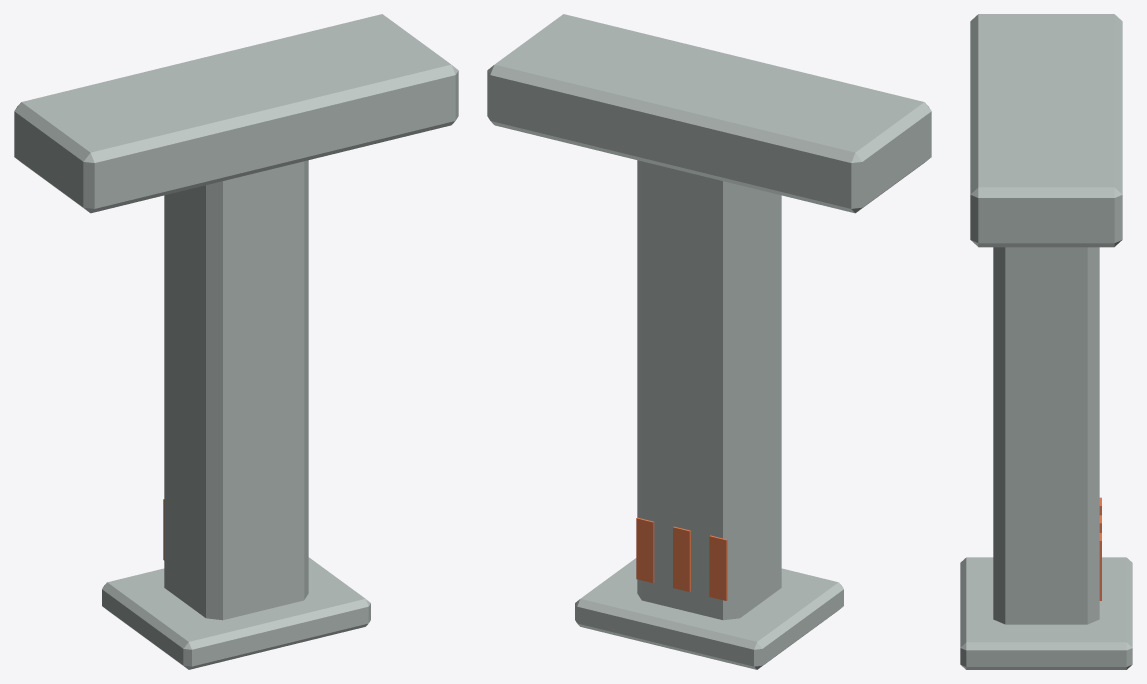
Rendered from bridge_pier.glb.
3 views of the same model, side by side, from view 1: azimuth 30°, elevation 25°; view 2: azimuth 150°, elevation 25°; view 3: azimuth 270°, elevation 25° (orthographic).
Parts seen in each view (by area): view 1: bridge_pier.Root_Concrete; view 2: bridge_pier.Root_Concrete, bridge_pier.Root_Orange; view 3: bridge_pier.Root_Concrete, bridge_pier.Root_Orange.
Boxes of the visible parts, box(x1,y1,x2,y2) form: bridge_pier.Root_Concrete: box(14, 14, 458, 669); bridge_pier.Root_Concrete: box(487, 14, 931, 669); bridge_pier.Root_Orange: box(636, 517, 727, 600); bridge_pier.Root_Concrete: box(960, 14, 1132, 669); bridge_pier.Root_Orange: box(1099, 497, 1101, 600).
Bounding box in the file's own units: 4.2 × 5.72 × 1.7.
